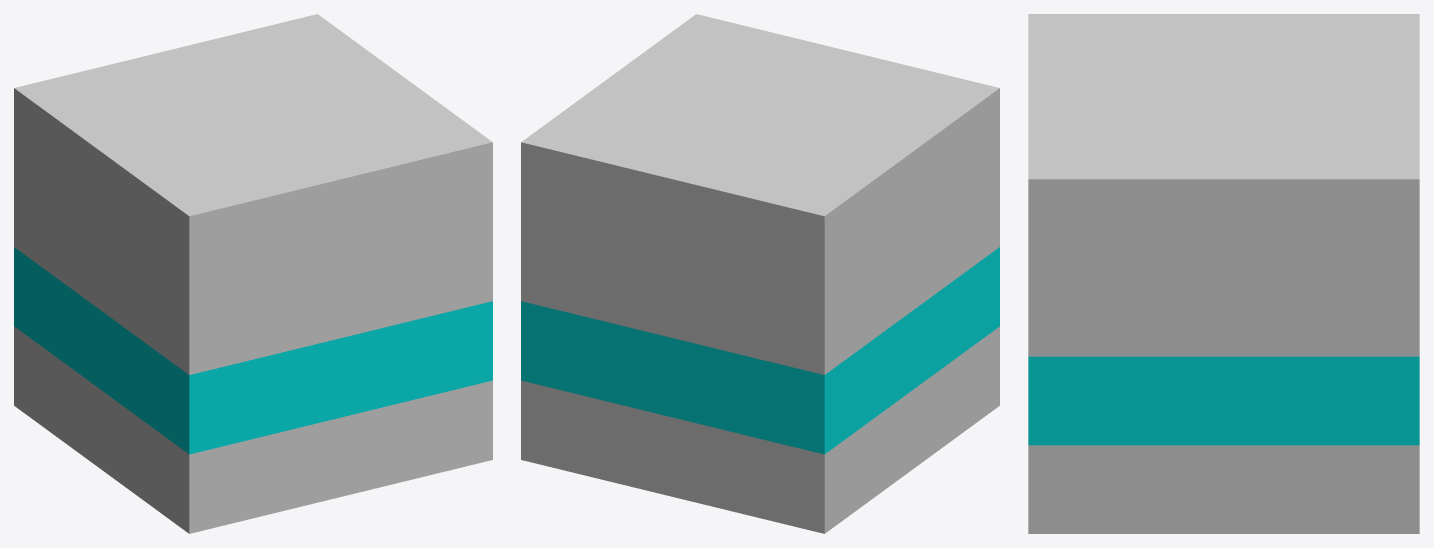
The model's file is mur_2_repar.fbx.
3 views of the same model, side by side, from view 1: azimuth 30°, elevation 25°; view 2: azimuth 150°, elevation 25°; view 3: azimuth 270°, elevation 25° (orthographic). The views are drawn at different scales.
Visible parts, largest first — view 1: pCube113; view 2: pCube113; view 3: pCube113.
Part boxes in pixels (bbox=[...]): pCube113: bbox=[14, 14, 492, 533]; pCube113: bbox=[521, 14, 999, 533]; pCube113: bbox=[1028, 14, 1419, 533].
Bounding box in the file's own units: 1 × 1 × 1.
